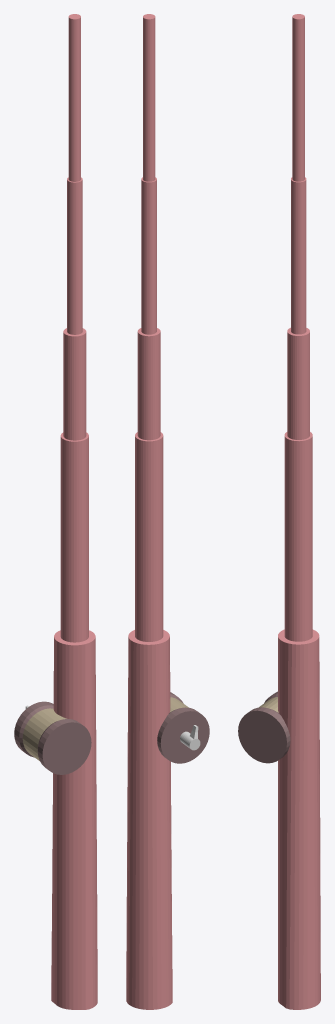
Rendered from fishing rod.fbx.
3 views of the same model, side by side, from view 1: azimuth 30°, elevation 25°; view 2: azimuth 210°, elevation 25°; view 3: azimuth 330°, elevation 25° (orthographic).
Parts seen in each view (by area): view 1: Cylinder.006; view 2: Cylinder.006; view 3: Cylinder.006.
Part boxes in pixels (bbox=[...]): Cylinder.006: bbox=[14, 14, 97, 1009]; Cylinder.006: bbox=[126, 14, 209, 1009]; Cylinder.006: bbox=[238, 14, 320, 1009].
Size of the model in its own units: 4.82 by 68.71 by 4.83.
